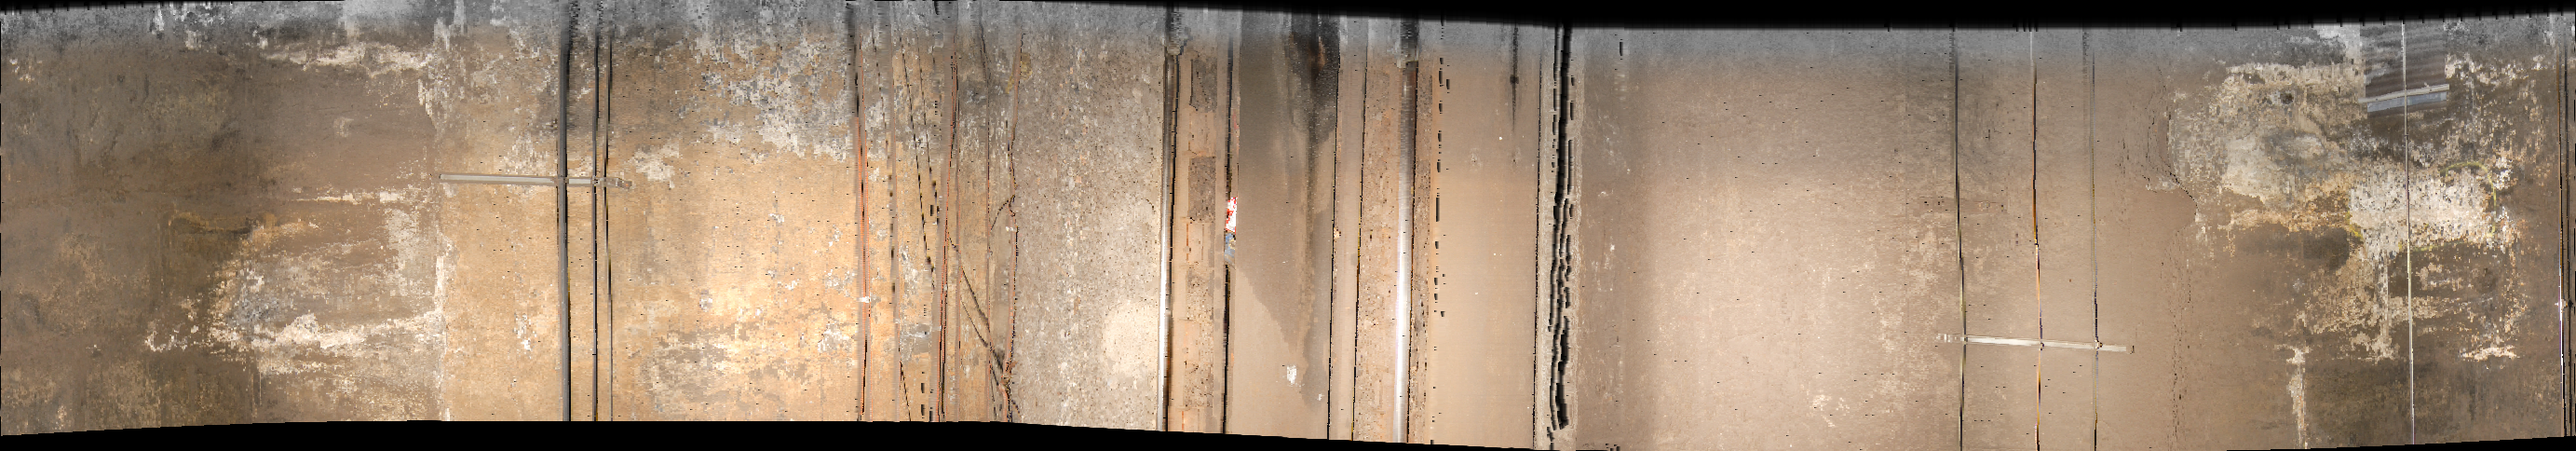pipes: (554, 2, 618, 441), (2022, 2, 2060, 451), (1947, 23, 1975, 451), (2083, 18, 2108, 451)
tracks: (1022, 5, 1543, 451)
